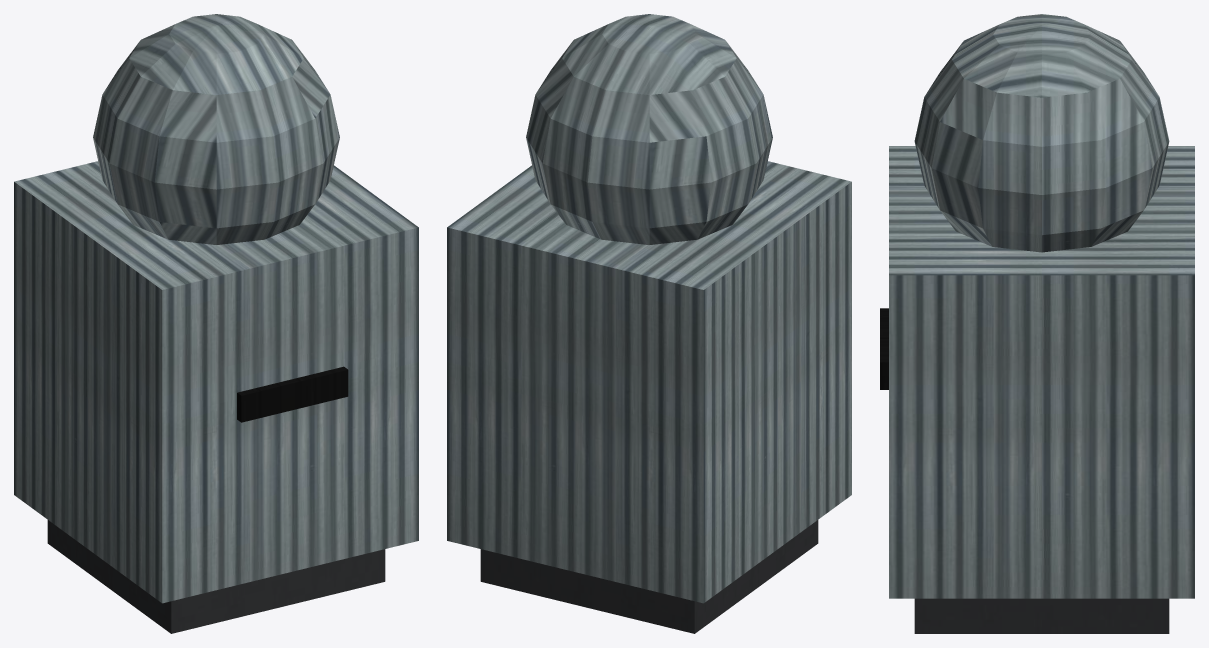
Rendered from guard_robot_01.glb.
3 views of the same model, side by side, from view 1: azimuth 30°, elevation 25°; view 2: azimuth 150°, elevation 25°; view 3: azimuth 270°, elevation 25° (orthographic). The views are drawn at different scales.
Parts seen in each view (by area): view 1: guard_robot_01; view 2: guard_robot_01; view 3: guard_robot_01.
Boxes of the visible parts, bbox=[...] form: guard_robot_01: bbox=[14, 14, 418, 633]; guard_robot_01: bbox=[447, 14, 851, 633]; guard_robot_01: bbox=[880, 14, 1194, 633].
Size of the model in its own units: 1.2 by 2.4 by 1.24.
Materials: 3 (3 with a texture image).
